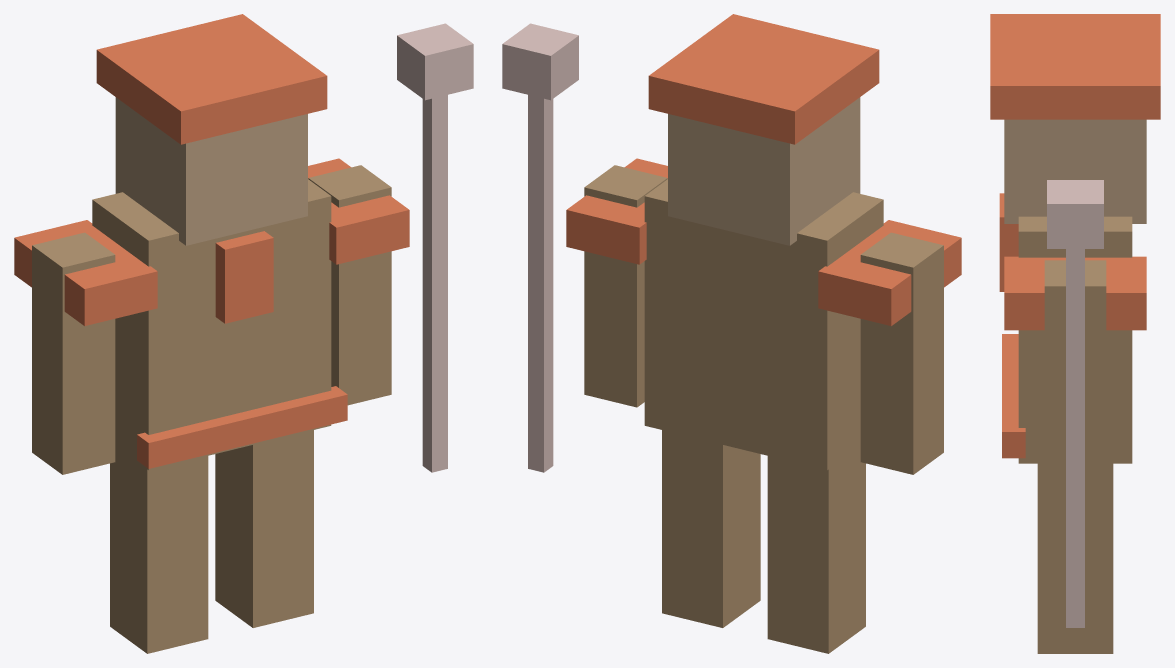
Rendered from 19_isolde_deepwell_diver_of_smoke.glb.
The picture shows the model from 3 angles, left to right: view 1: azimuth 30°, elevation 25°; view 2: azimuth 150°, elevation 25°; view 3: azimuth 270°, elevation 25°; orthographic projection.
Visible parts, largest first — view 1: Isolde Deepwell, Diver of Smoke; view 2: Isolde Deepwell, Diver of Smoke; view 3: Isolde Deepwell, Diver of Smoke.
Boxes of the visible parts, x1=… form: Isolde Deepwell, Diver of Smoke: x1=14, y1=14, x2=473, y2=653; Isolde Deepwell, Diver of Smoke: x1=502, y1=14, x2=961, y2=653; Isolde Deepwell, Diver of Smoke: x1=990, y1=14, x2=1160, y2=653.
Size of the model in its own units: 1.09 by 1.41 by 0.3876.
